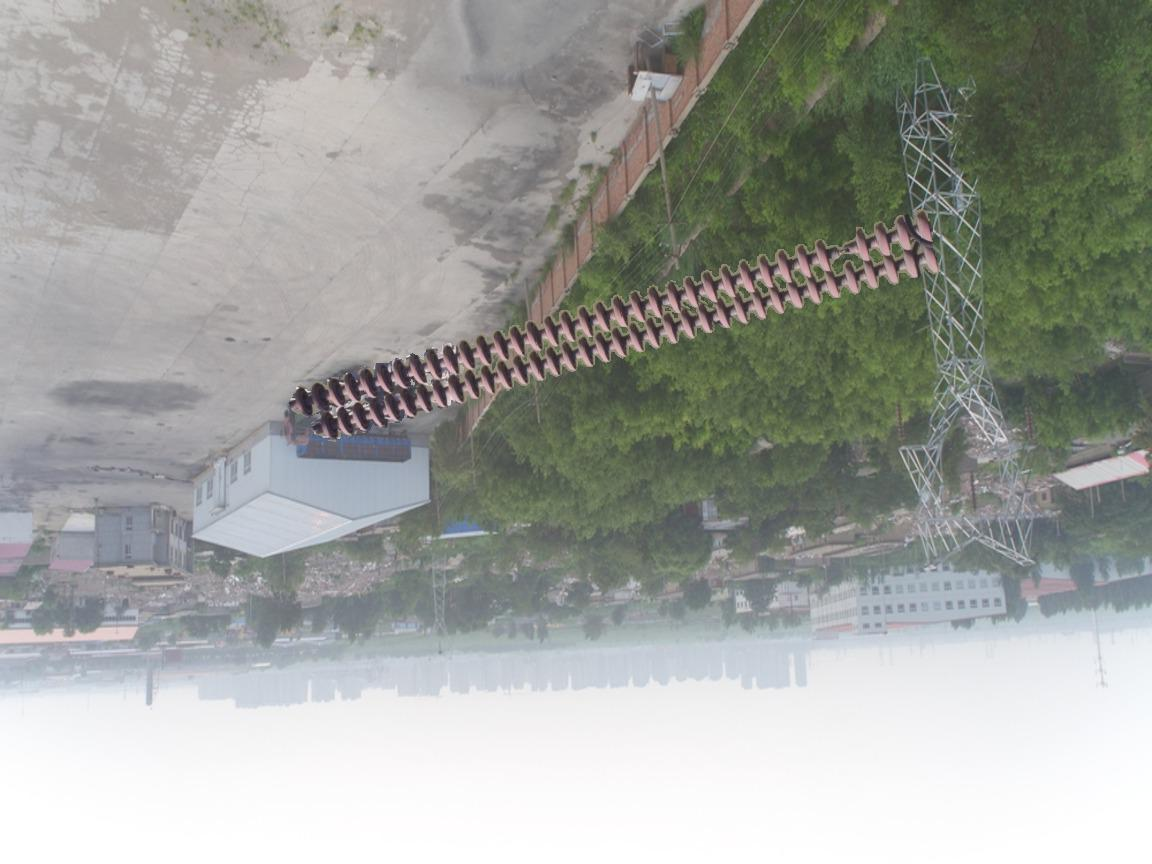insulator: (293, 204, 948, 442)
insulator_stringdrop: (813, 222, 873, 276)
